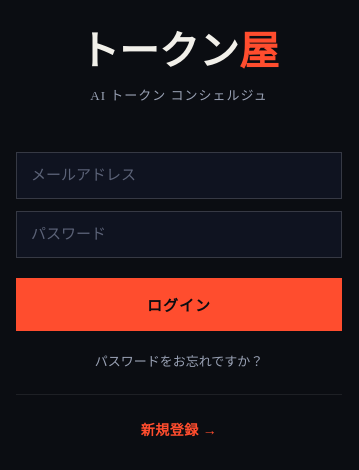
Test: LoginScreen › 空白のままログインするとエラーが表示される
Click the element with test id "login-button": (179, 304) 16,278 -> 342,331
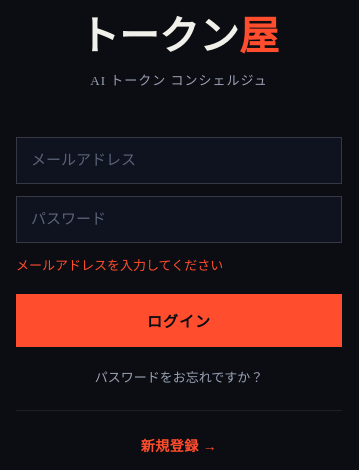
Check: the text "メールアドレスを入力してください" is shown, box 16,258 -> 223,272
